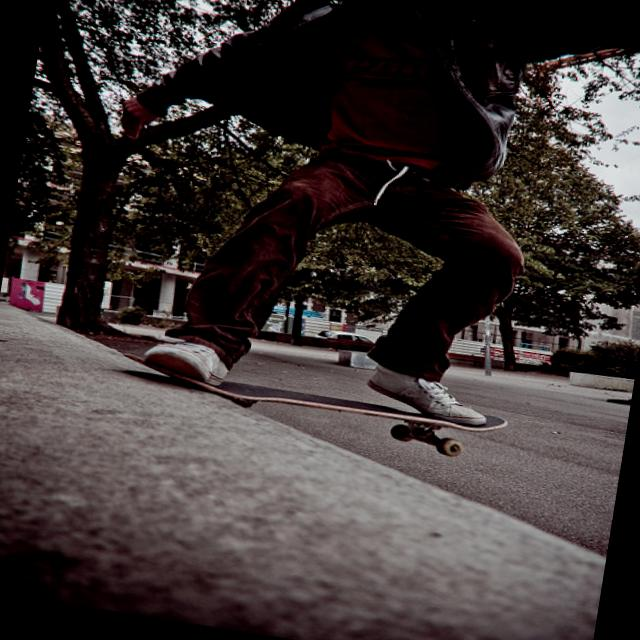Vehicle: (312, 326, 376, 346)
